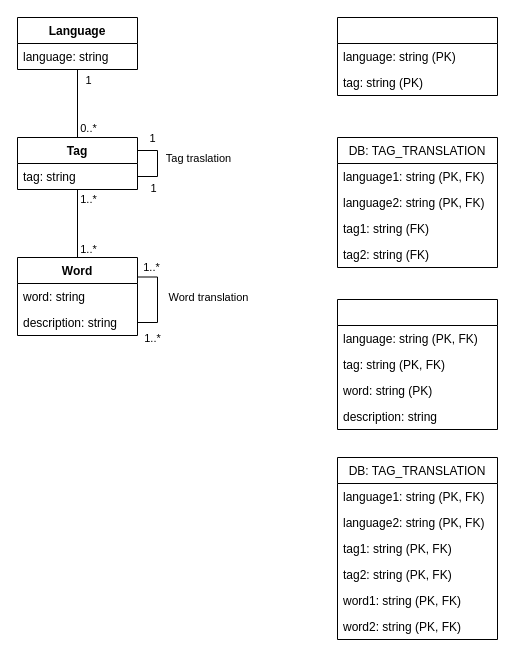
Image size: 515x660. Some labels were removed from this diagram. The shapes that lost their labels are listed below. From the top down, each one's box as (x1, y1, x2, y2) in pixels, then its label:
(336, 16, 498, 96): DB: TAG
(336, 298, 498, 430): DB: WORD
